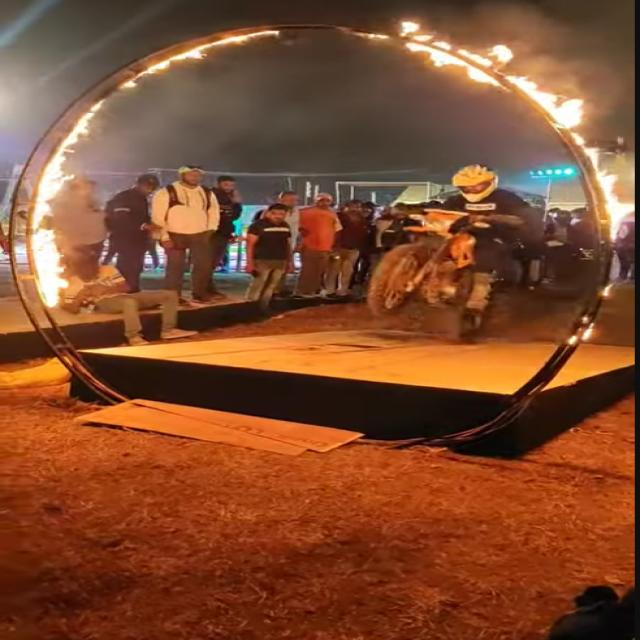fire: (573, 132, 639, 242), (508, 75, 584, 129), (30, 151, 75, 230), (431, 43, 514, 85), (30, 228, 69, 308), (57, 99, 106, 151), (401, 19, 453, 53)
